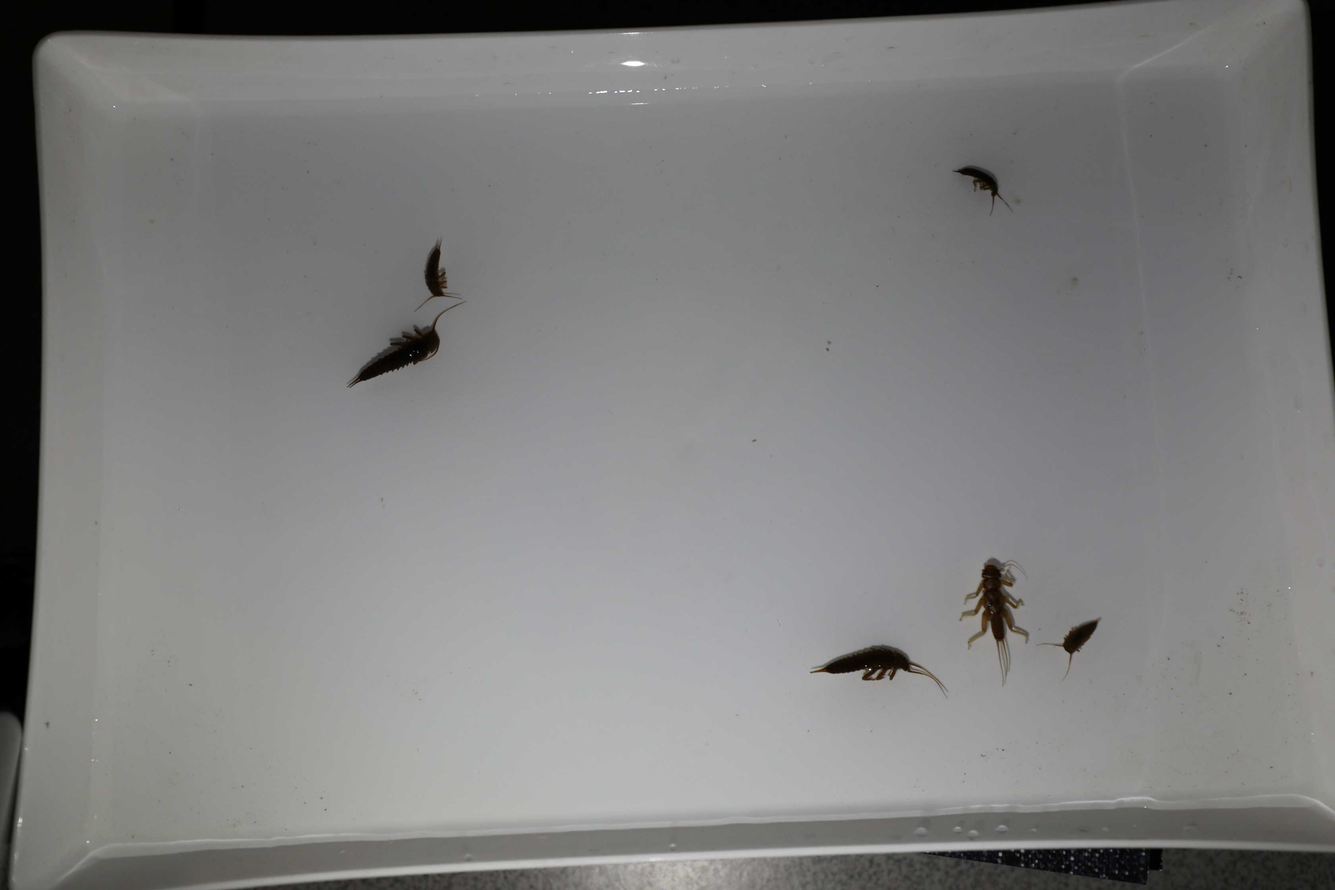Stonefly: (340, 301, 466, 391), (956, 553, 1027, 685), (812, 641, 951, 698), (1035, 616, 1101, 680), (951, 165, 1019, 223), (419, 238, 466, 310)
